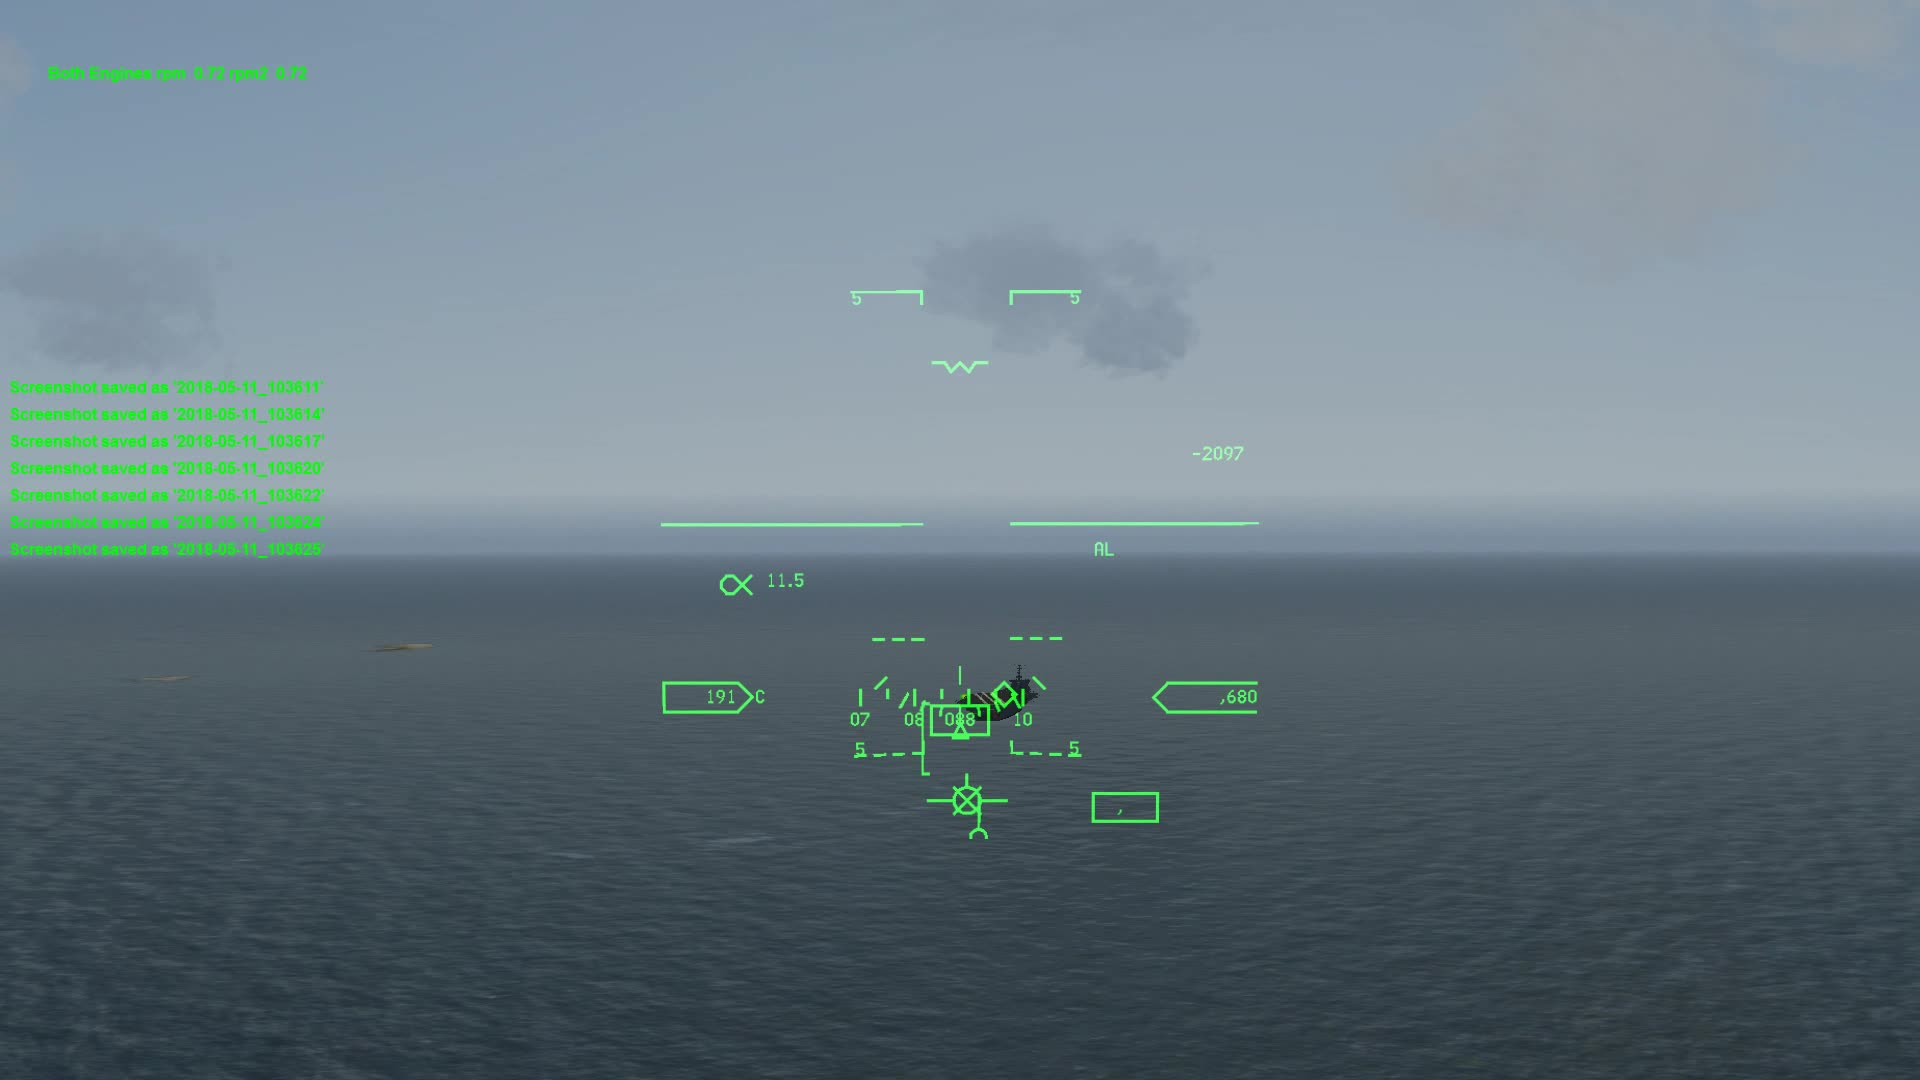speed vector: (920, 775, 1025, 816)
